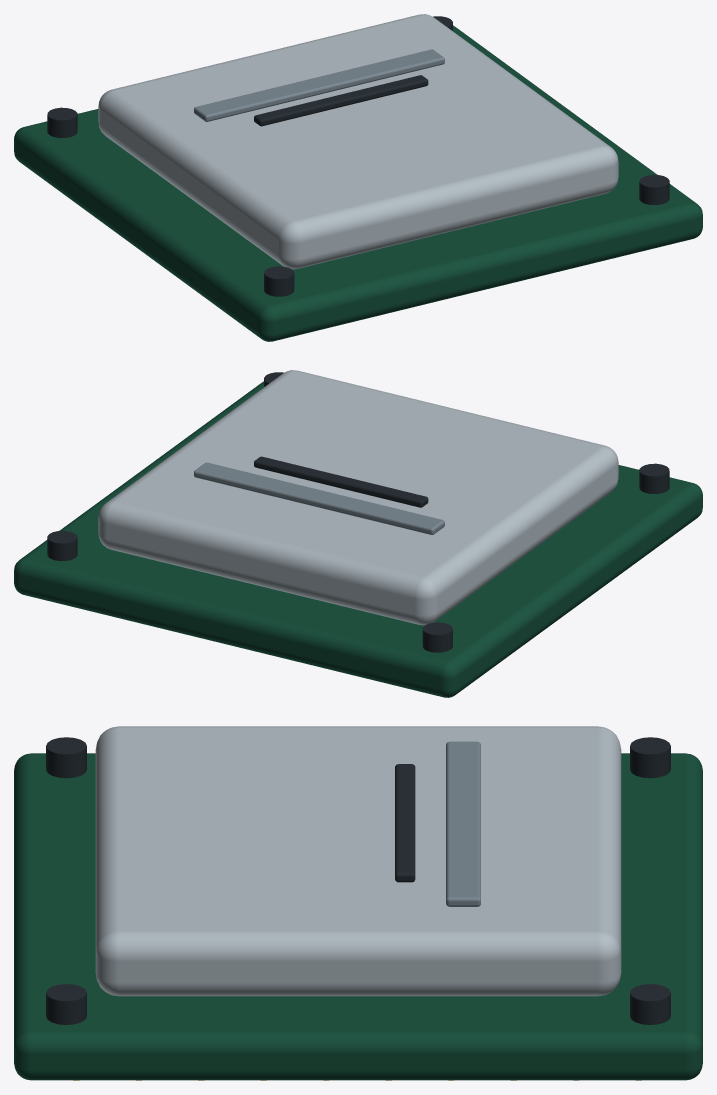
Rendered from desktop-processor.glb.
3 views of the same model, one above another, from view 1: azimuth 30°, elevation 25°; view 2: azimuth 150°, elevation 25°; view 3: azimuth 270°, elevation 25° (orthographic). The views are drawn at different scales.
Visible parts, largest first — view 1: Integrated heat spreader, Processor substrate, Premium desktop processor; view 2: Integrated heat spreader, Processor substrate, Premium desktop processor; view 3: Integrated heat spreader, Processor substrate, Premium desktop processor.
Boxes of the visible parts, x1,y1,x2,y2 form: Integrated heat spreader: [98, 14, 618, 269]; Processor substrate: [14, 25, 702, 341]; Premium desktop processor: [47, 16, 669, 296]; Integrated heat spreader: [98, 370, 618, 625]; Processor substrate: [14, 381, 702, 697]; Premium desktop processor: [47, 372, 669, 652]; Integrated heat spreader: [95, 726, 621, 996]; Processor substrate: [14, 753, 702, 1080]; Premium desktop processor: [46, 737, 670, 1024].
Bounding box in the file's own units: 1.18 × 0.2635 × 1.18.
